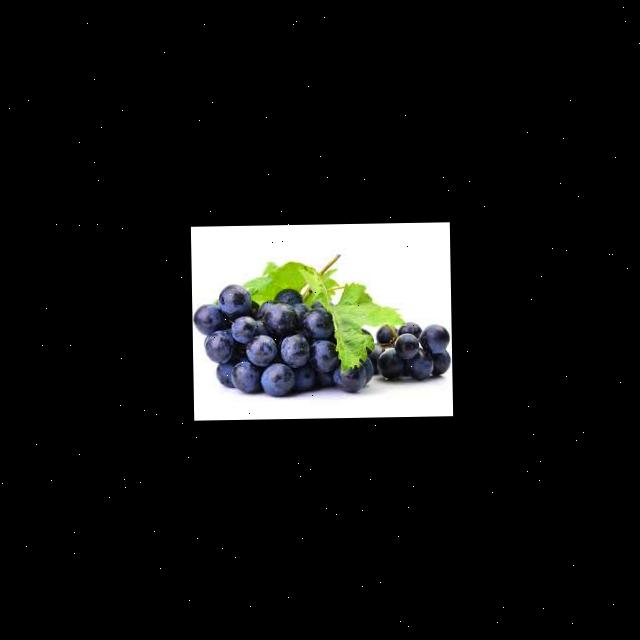grape: (198, 290, 346, 398), (368, 319, 450, 380)
